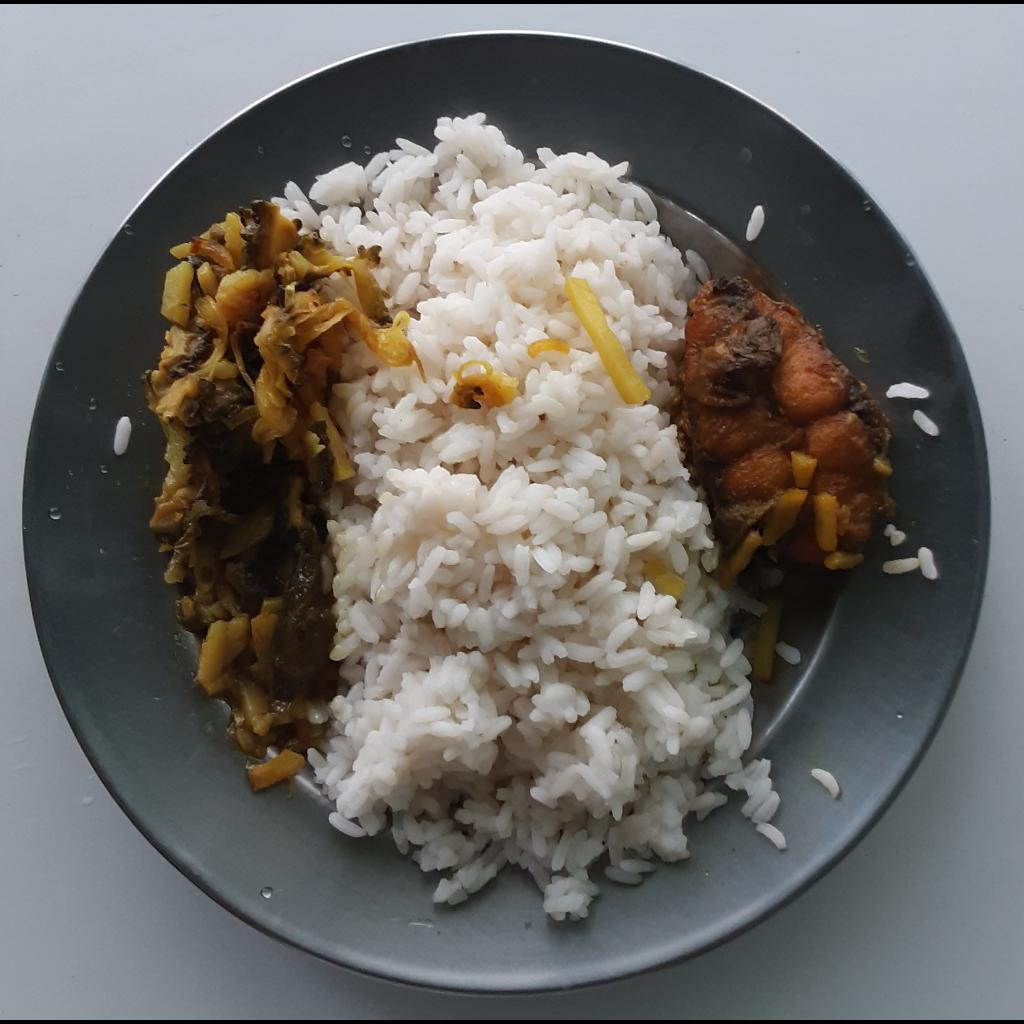fish: (678, 270, 891, 577)
korola-vaji: (146, 193, 411, 803)
rice: (272, 107, 781, 921)
